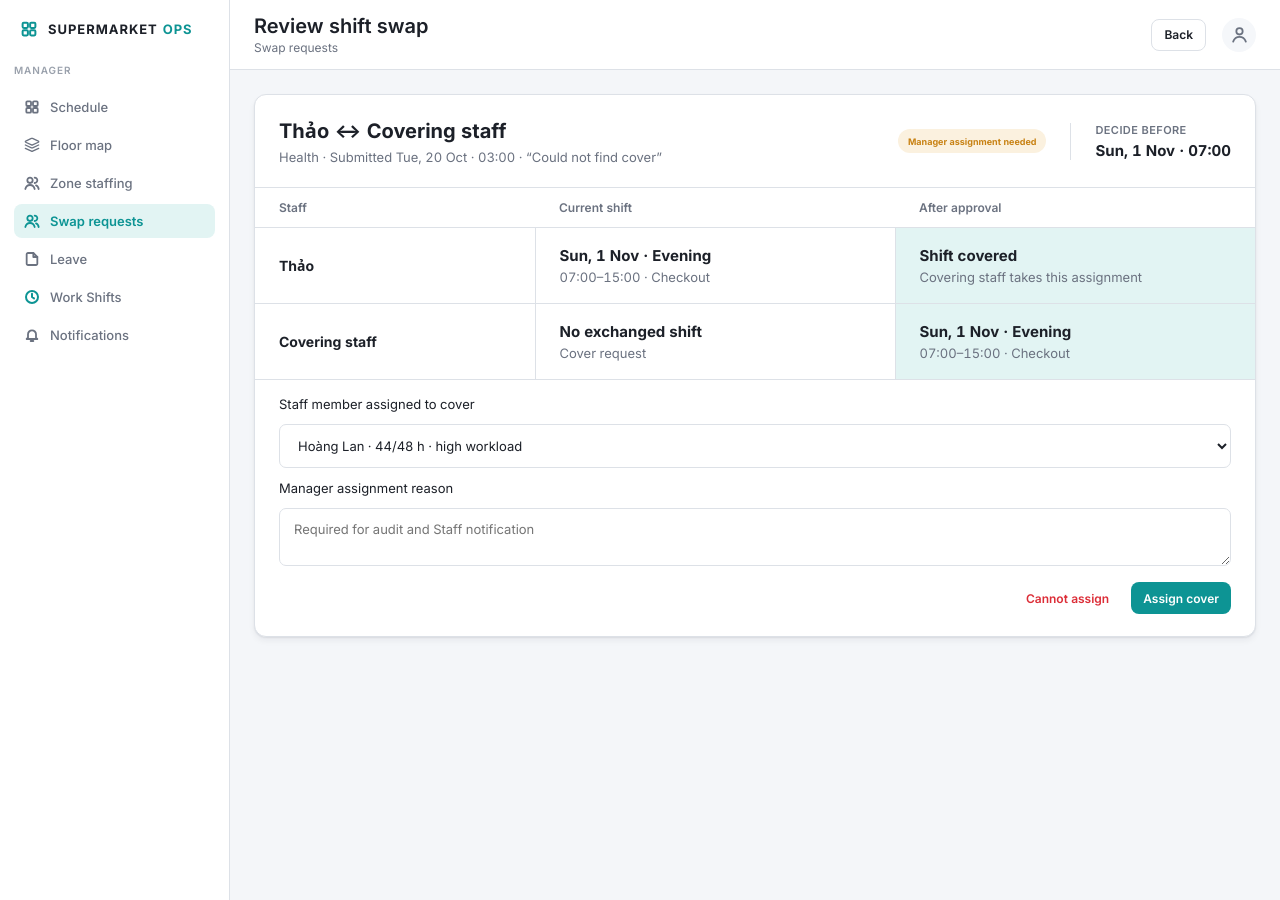
Test: Manager console › lets the Manager select cover when Staff asks for assistance
The image size is (1280, 900).
Type "Emergency coverage" into the text box at (755, 537), box [279,508,1231,566]
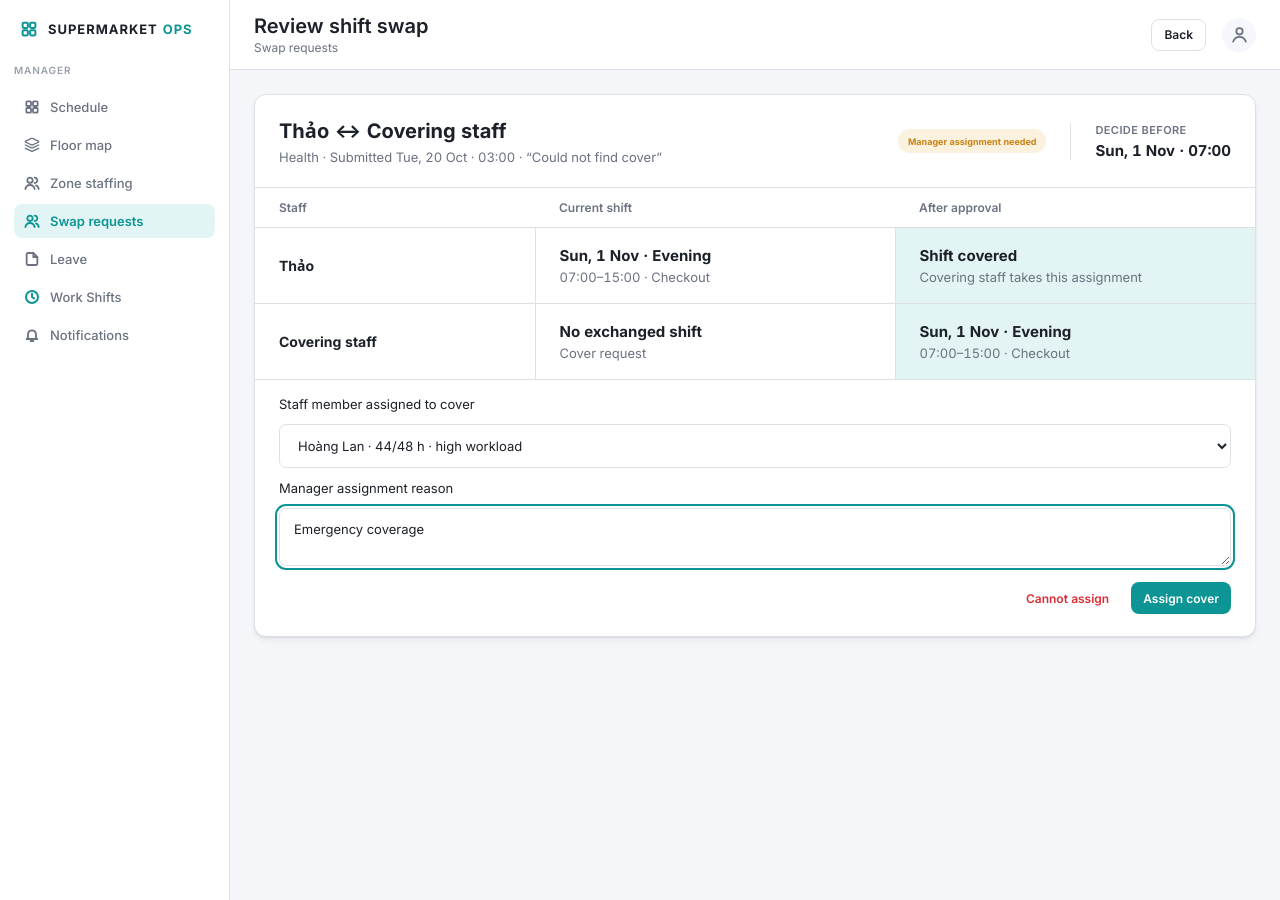
Click the button "Assign cover" at (1181, 598), box [1131,582,1231,614]
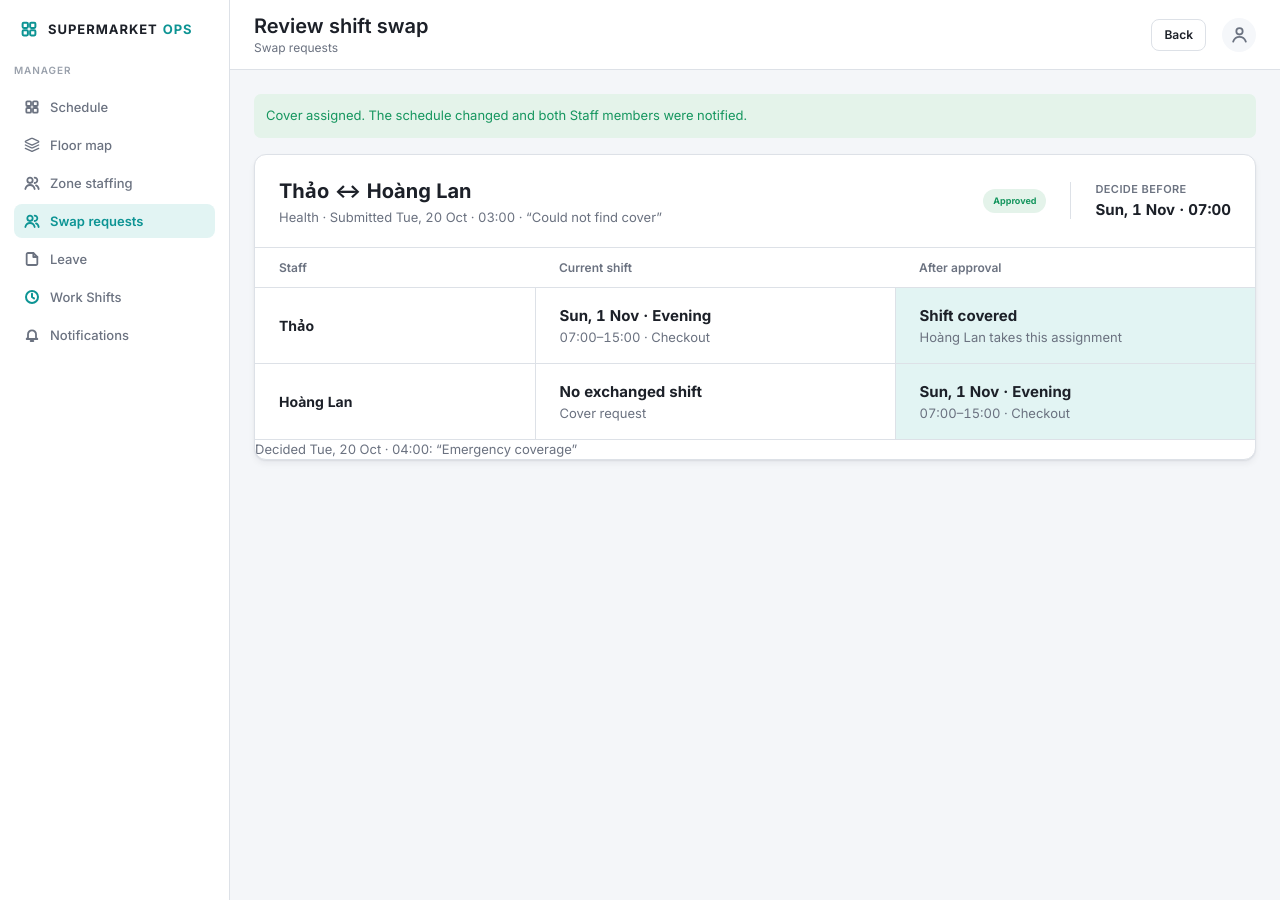
Now the message shows "Cover assigned", box [266,107,747,123]
